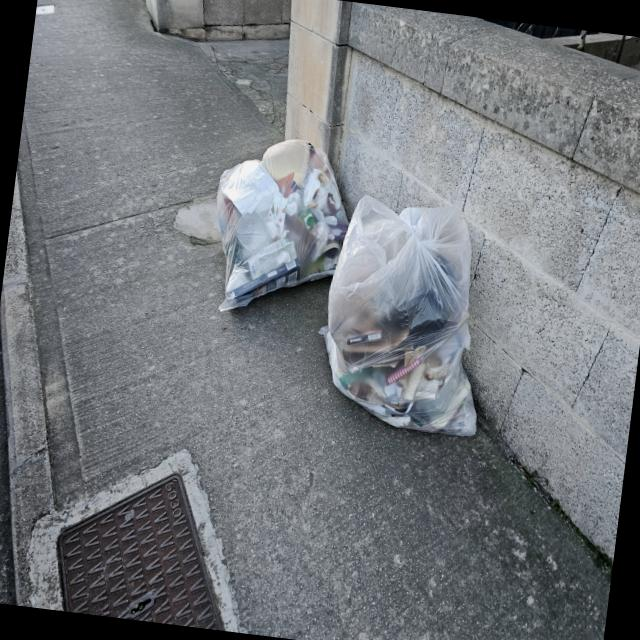grey_bag: (310, 190, 505, 438), (200, 128, 360, 328)
